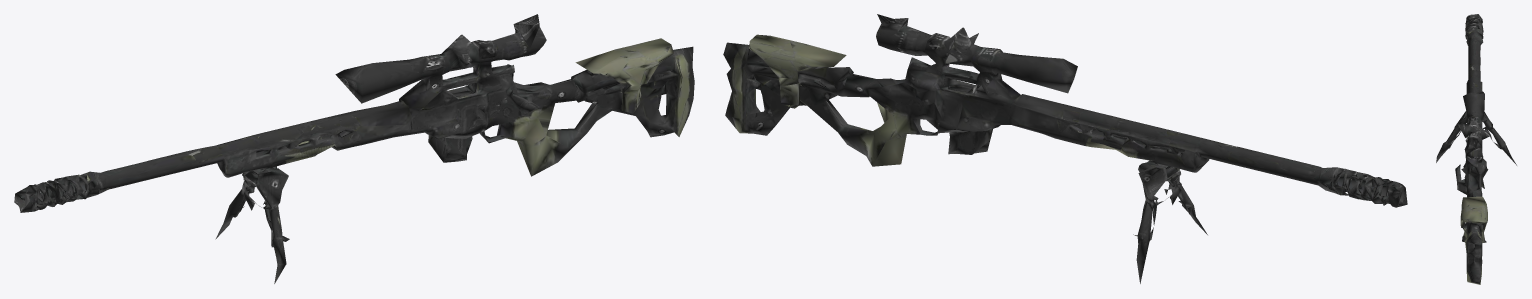
Rendered from gun_amr_lo.glb.
3 views of the same model, side by side, from view 1: azimuth 30°, elevation 25°; view 2: azimuth 150°, elevation 25°; view 3: azimuth 270°, elevation 25° (orthographic). The views are drawn at different scales.
Size of the model in its own units: 1.9 by 0.4814 by 0.3099.
1 material, 1 textured.
